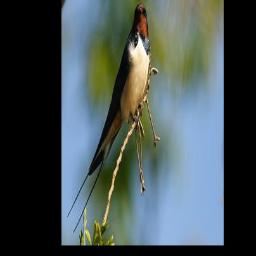Swallow: (67, 1, 149, 234)
